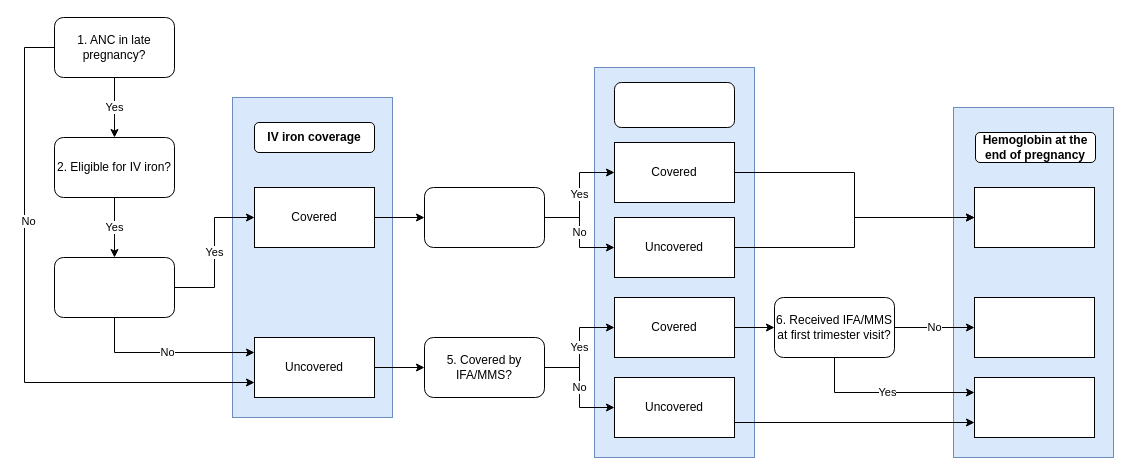
The diagram is 1131 pixels wide and 475 high, and some of its shapes have lost their labels. The box of each missing label's shape, as (x1, y1, x2, y2) in pixels:
3. Covered by IV iron?: (54, 256, 174, 318)
4. Covered by IFA/MMS?: (424, 186, 544, 248)
first trimester hemoglobin: (974, 376, 1094, 438)
first trimester hemoglobin + IV iron effect size: (974, 186, 1094, 248)
first trimester hemoglobin + oral iron effect size: (974, 296, 1094, 358)
IFA/MMS coverage at any point in pregnancy: (614, 82, 734, 128)
